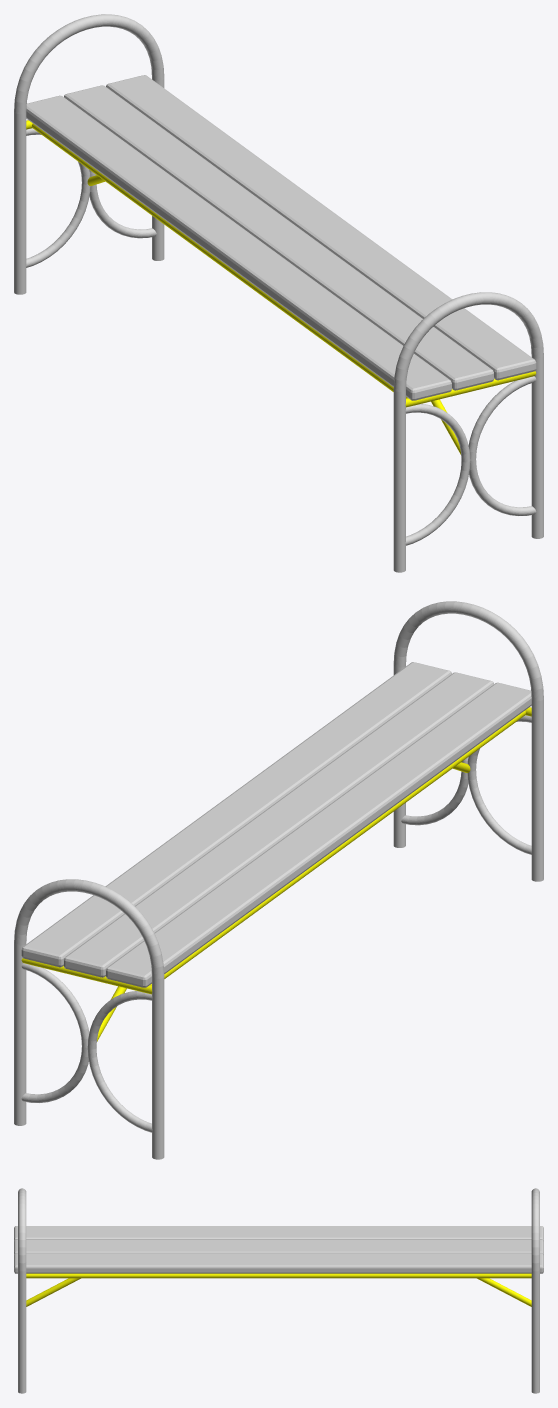
3 renders of one model, top to bottom at view 1: azimuth 30°, elevation 25°; view 2: azimuth 150°, elevation 25°; view 3: azimuth 270°, elevation 25°, orthographic. The views are drawn at different scales.
Visible parts, largest first — view 1: B-06; view 2: B-06; view 3: B-06.
Part boxes in pixels (<box>): B-06: <box>14,14,543,572</box>; B-06: <box>14,601,543,1159</box>; B-06: <box>14,1188,543,1393</box>.
Size of the model in its own units: 38.8 by 64.37 by 177.
